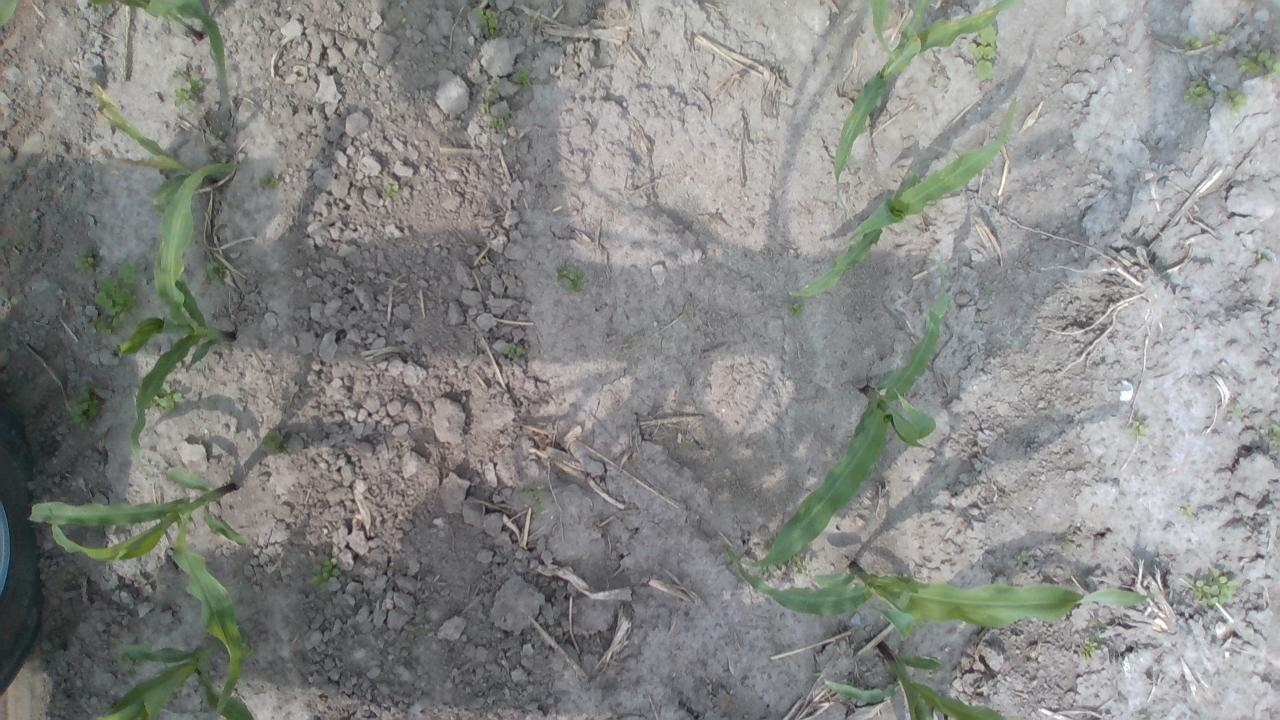Maize: (724, 260, 952, 569), (28, 466, 252, 720), (784, 93, 1019, 296), (720, 542, 1164, 642), (116, 161, 241, 464), (832, 1, 1024, 183), (88, 80, 224, 240), (0, 1, 228, 82), (821, 638, 1010, 720), (85, 641, 255, 720)
Weeds: (93, 262, 140, 335), (484, 71, 527, 130), (974, 22, 998, 80), (1196, 576, 1238, 608), (1238, 51, 1280, 78), (148, 380, 182, 411), (171, 72, 200, 106), (312, 559, 340, 592), (68, 394, 95, 427), (558, 264, 589, 290), (263, 432, 292, 456), (482, 6, 501, 38), (1192, 33, 1224, 51), (1187, 82, 1209, 105), (75, 248, 95, 272), (206, 260, 222, 288), (530, 486, 544, 514), (1227, 91, 1244, 109), (1269, 424, 1280, 446), (1082, 641, 1098, 656), (503, 344, 521, 356), (1230, 402, 1242, 415), (790, 302, 800, 317), (386, 184, 398, 196), (1138, 422, 1148, 435), (1184, 504, 1192, 512)
